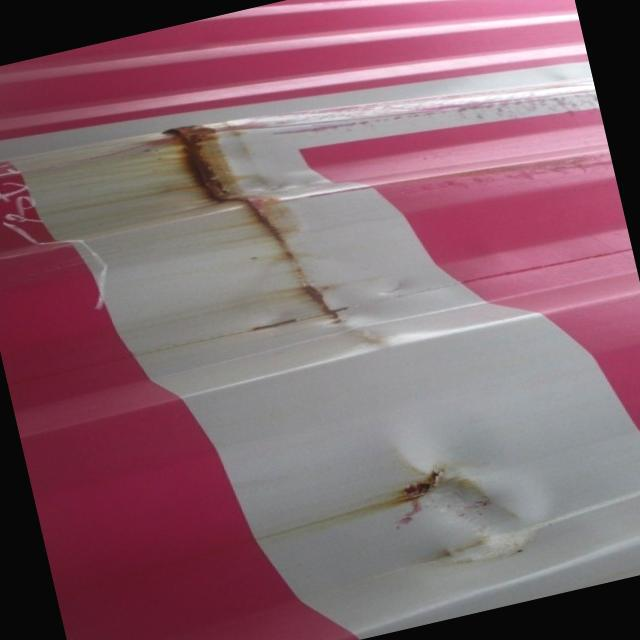dent: (18, 34, 500, 438), (367, 420, 571, 623)
